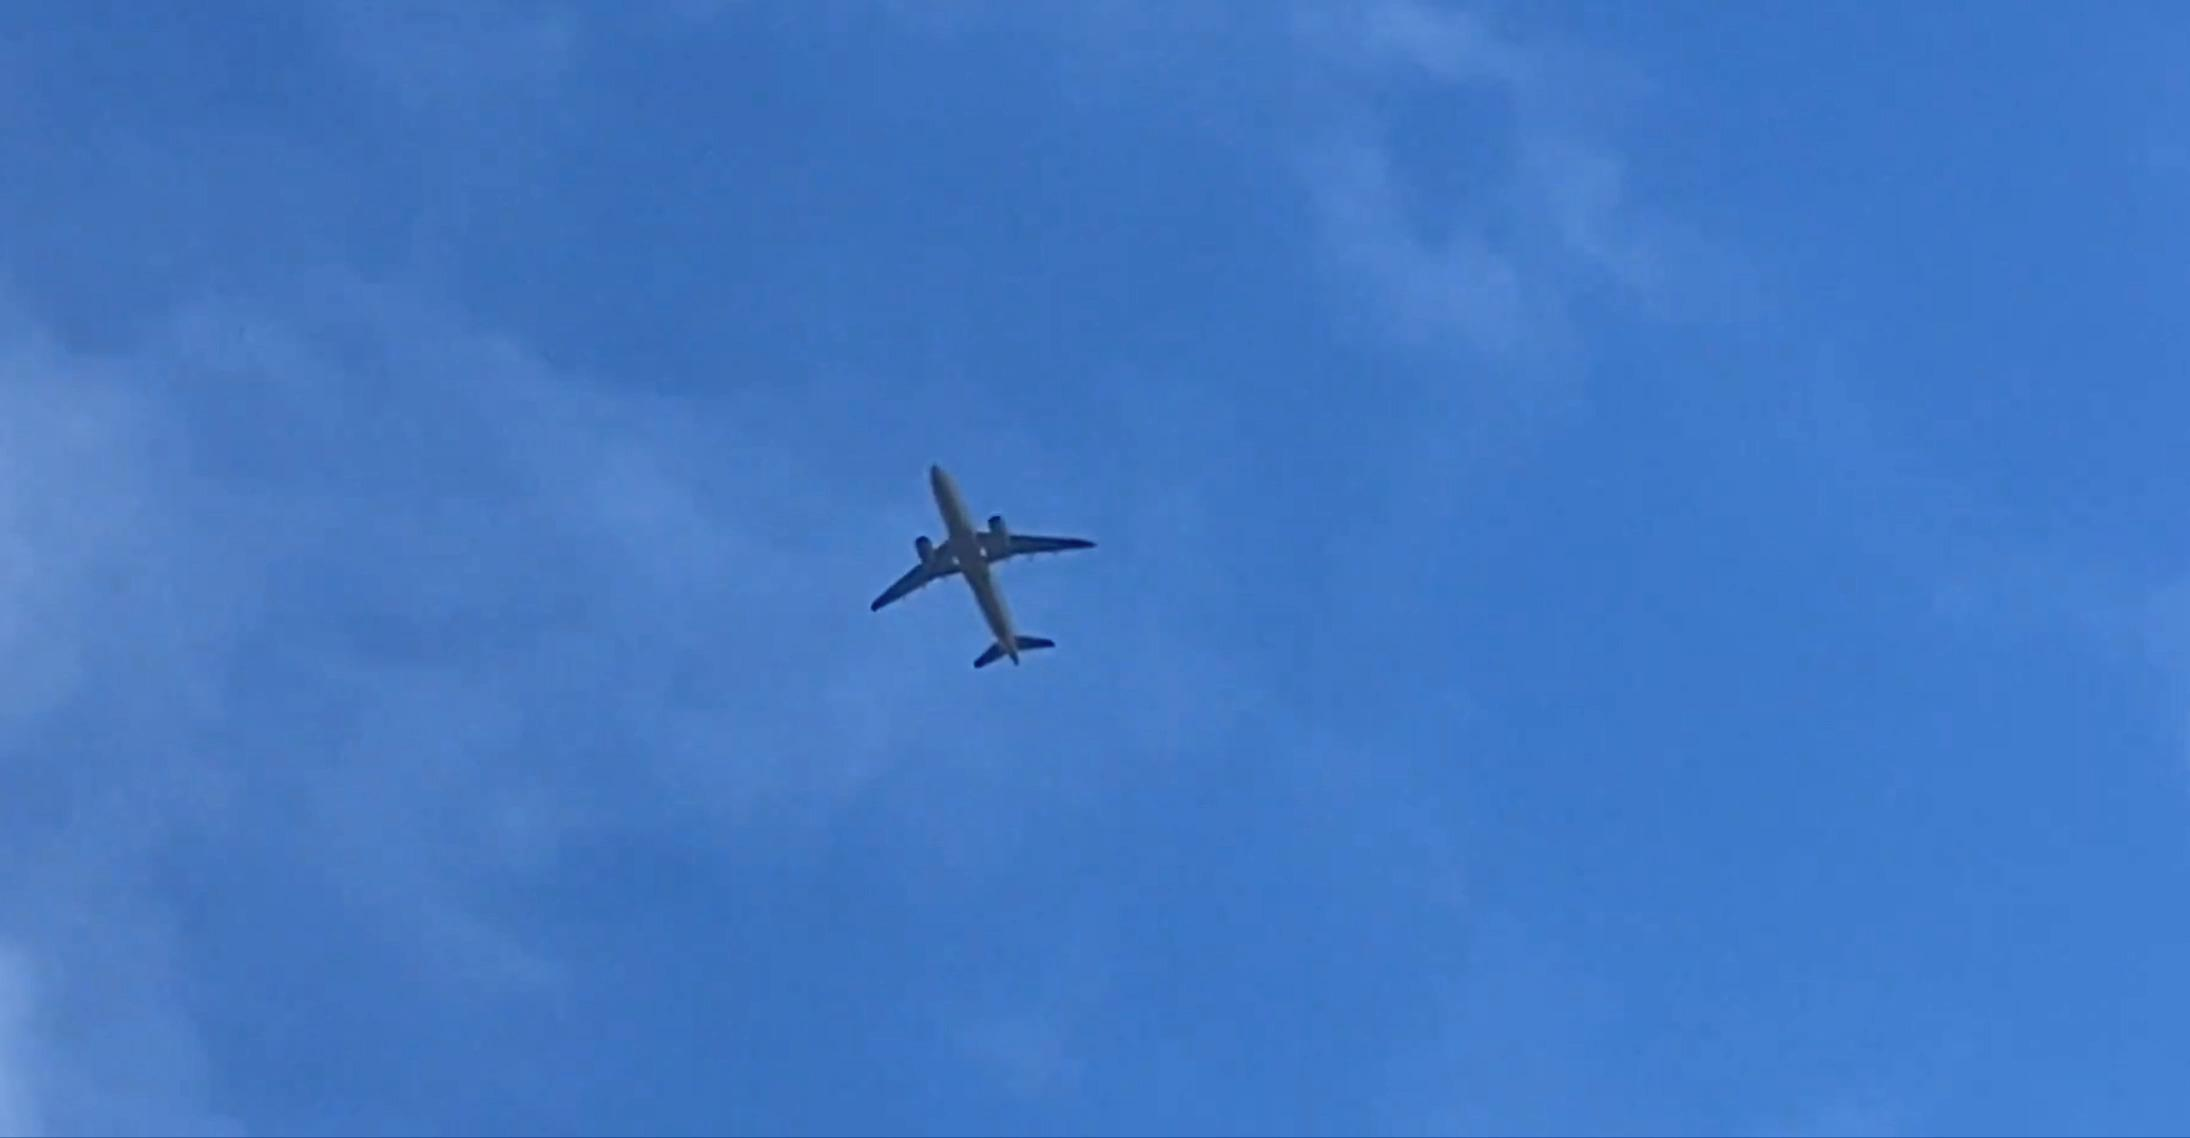Plane: (847, 472, 1109, 666)
